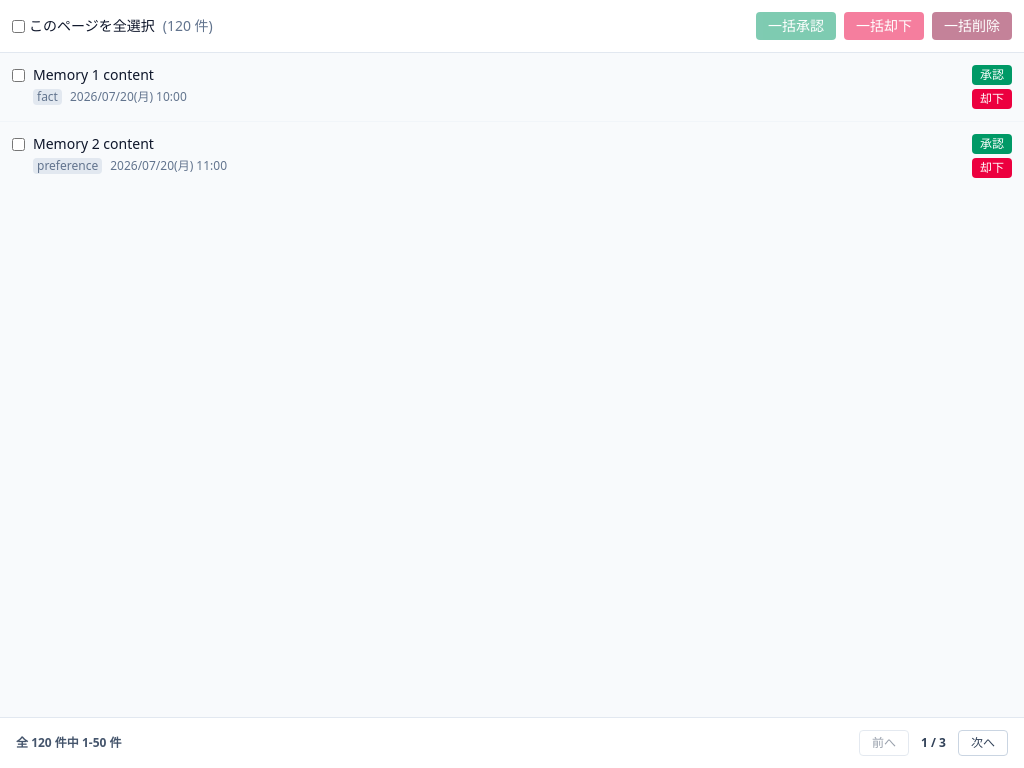
Test: MemoryList › requests pages with limit/offset and resets to the first page
Click the button "次へ" at (983, 743), box [958,730,1008,756]
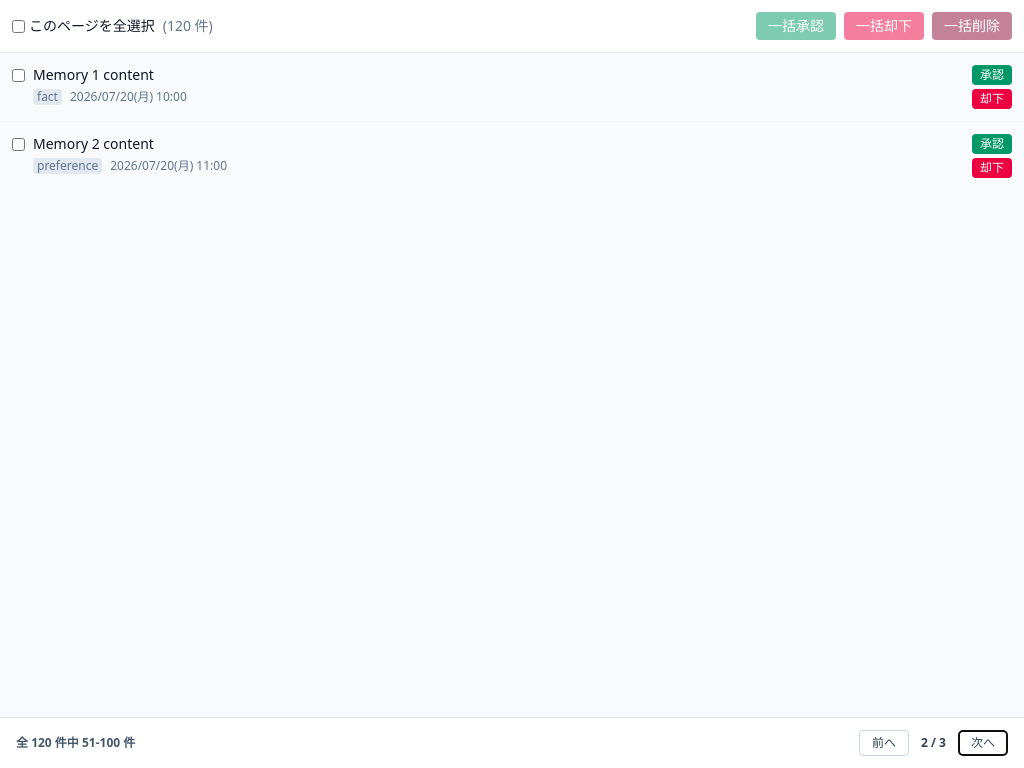
Expected: the text "2 / 3" is shown, [921,734,946,751]
